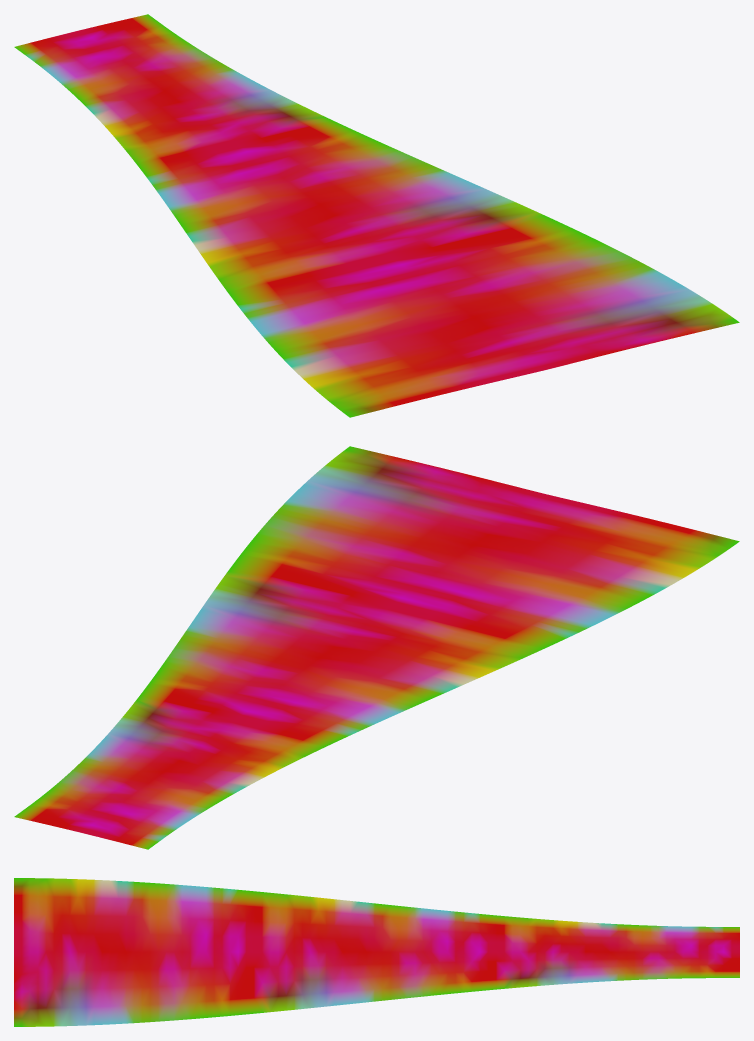
Rendered from Road_Thin_to_Wide.fbx.
3 views of the same model, one above another, from view 1: azimuth 30°, elevation 25°; view 2: azimuth 150°, elevation 25°; view 3: azimuth 270°, elevation 25° (orthographic). The views are drawn at different scales.
Visible parts, largest first — view 1: Road_Thin_to_Wide; view 2: Road_Thin_to_Wide; view 3: Road_Thin_to_Wide.
Boxes of the visible parts, left/top/right/bottom form: Road_Thin_to_Wide: left=14, top=14, right=739, bottom=417; Road_Thin_to_Wide: left=14, top=446, right=739, bottom=849; Road_Thin_to_Wide: left=14, top=878, right=739, bottom=1026.
Bounding box in the file's own units: 48.55 × 0.0825 × 100.
